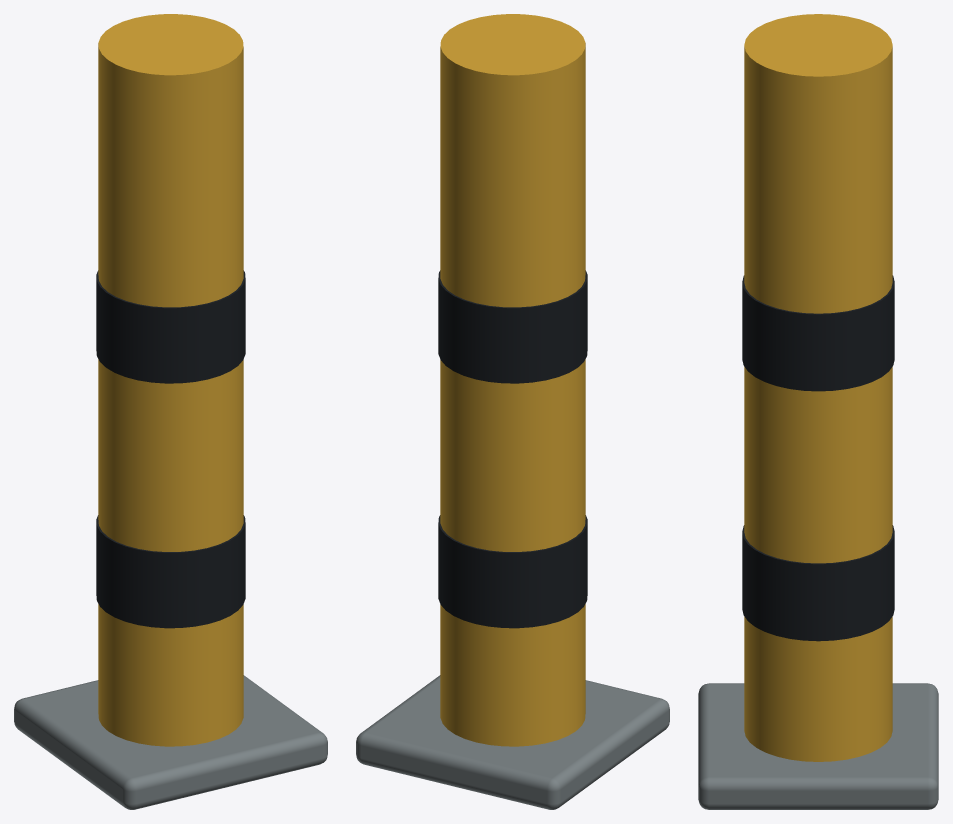
The model's file is bollard.glb.
3 renders of one model, left to right at view 1: azimuth 30°, elevation 25°; view 2: azimuth 150°, elevation 25°; view 3: azimuth 270°, elevation 25°, orthographic. The views are drawn at different scales.
Visible parts, largest first — view 1: bollard; view 2: bollard; view 3: bollard.
Boxes of the visible parts, x1,y1,x2,y2 form: bollard: [14, 14, 327, 809]; bollard: [356, 14, 669, 809]; bollard: [698, 14, 938, 809].
Bounding box in the file's own units: 0.34 × 1.12 × 0.34.
